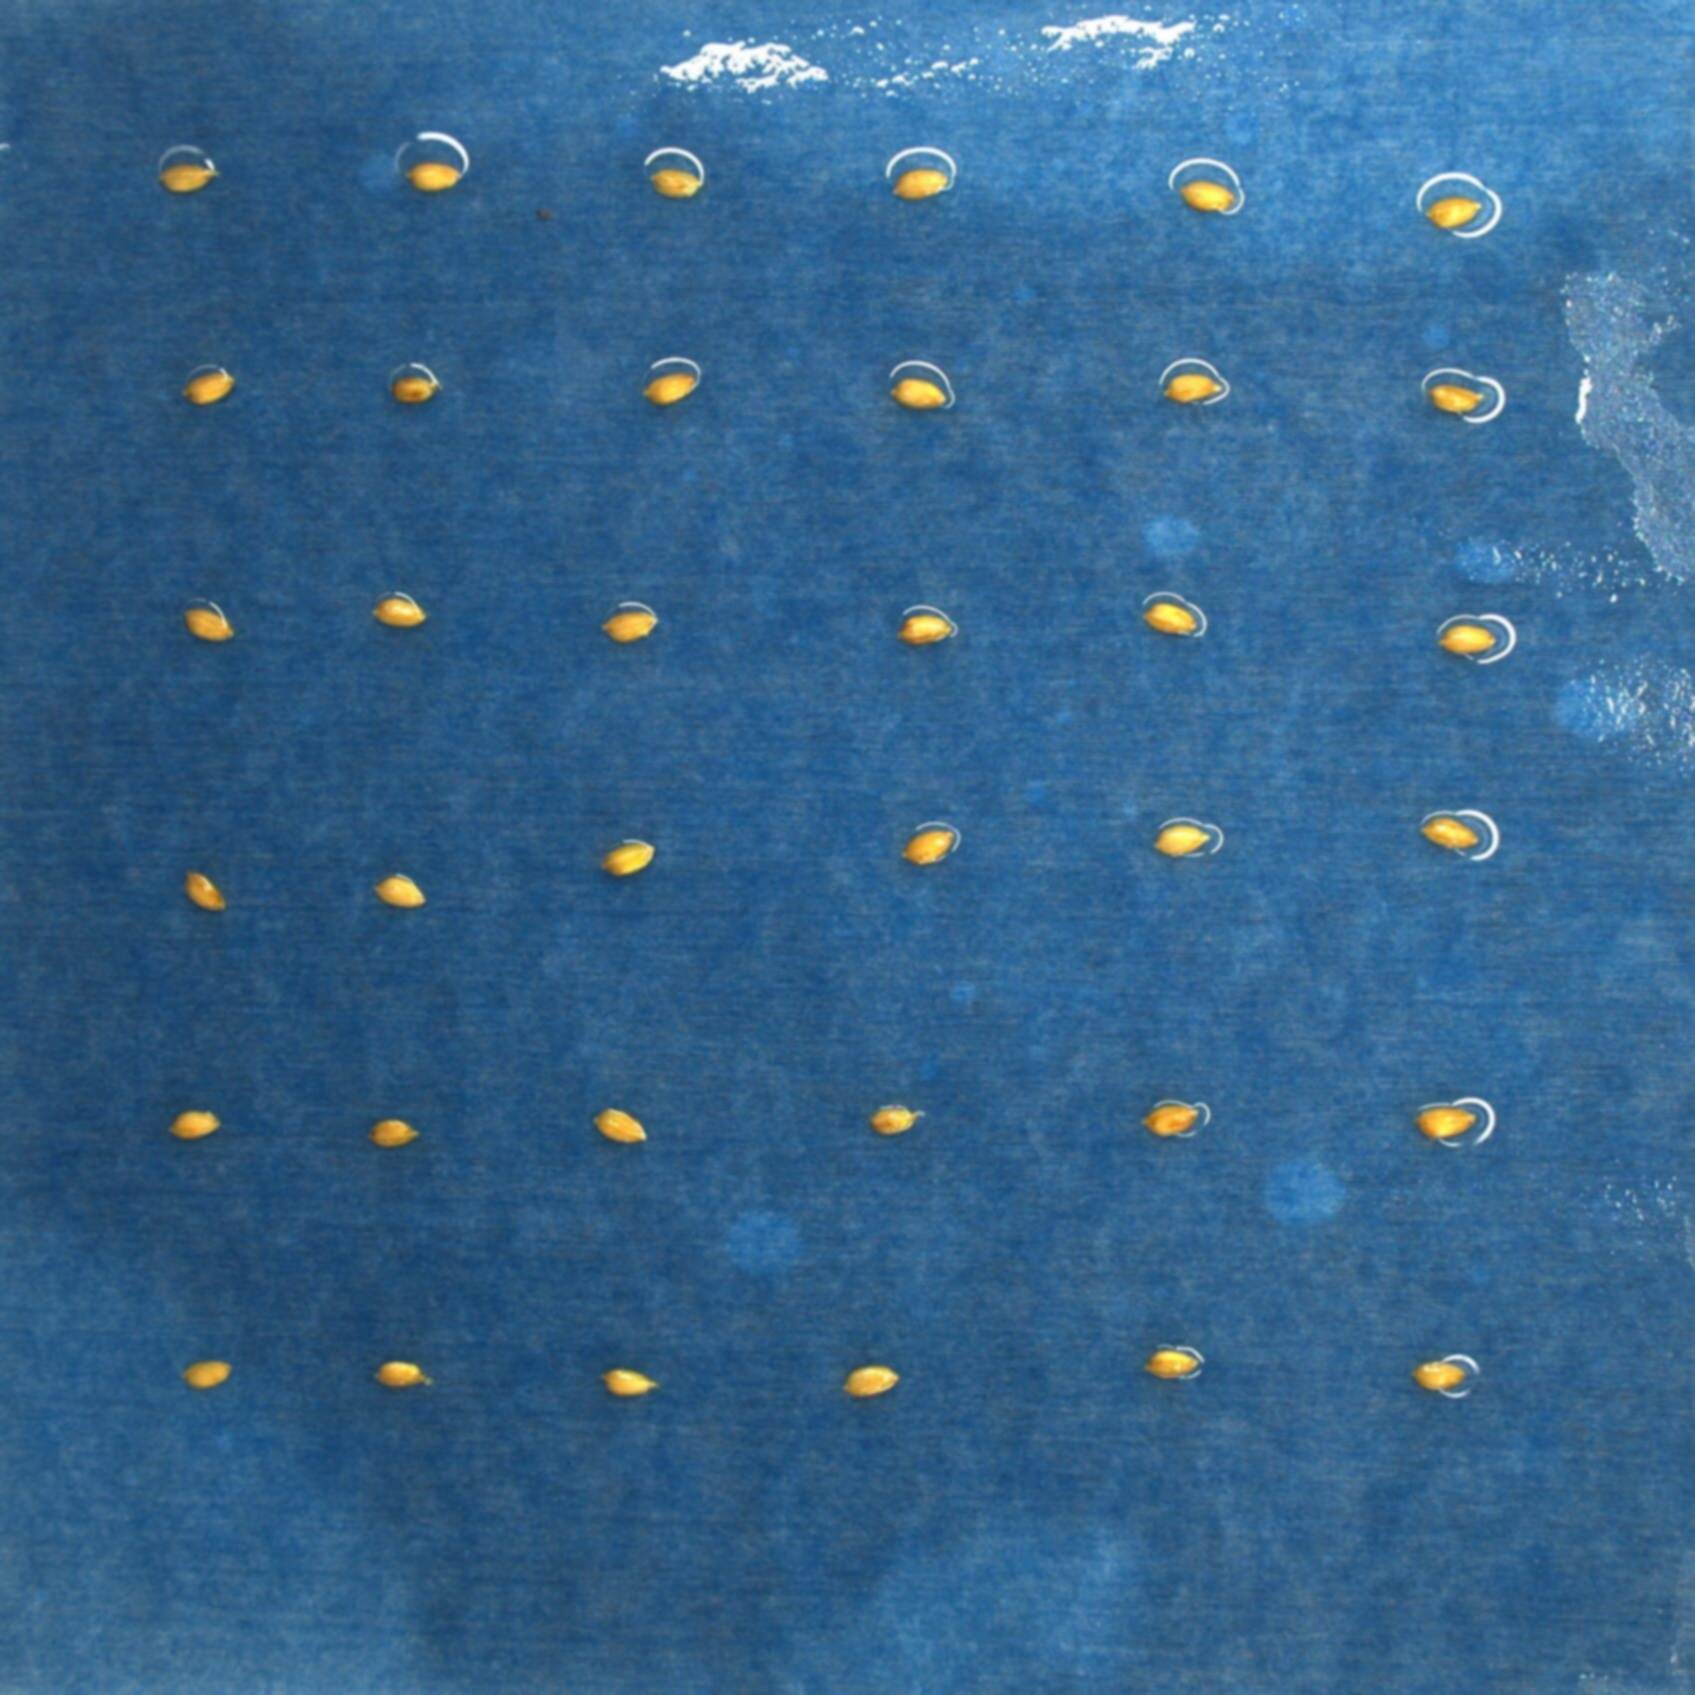not sprout: (366, 590, 428, 630), (888, 371, 955, 408), (1138, 1101, 1201, 1139), (1173, 179, 1239, 216), (388, 365, 442, 408), (179, 365, 234, 407), (865, 1102, 930, 1138), (180, 868, 230, 914), (1416, 816, 1479, 852), (1149, 824, 1214, 858), (369, 869, 428, 906), (1409, 1105, 1473, 1139), (599, 608, 660, 644), (588, 1107, 649, 1142), (179, 602, 231, 643), (1423, 379, 1485, 413), (1437, 621, 1496, 657), (899, 826, 955, 863), (900, 607, 958, 643), (894, 165, 948, 202), (1144, 601, 1198, 638), (647, 161, 703, 196), (602, 1361, 658, 1395), (641, 371, 698, 404), (1426, 199, 1482, 230), (1164, 369, 1220, 400), (1412, 1358, 1470, 1388), (1138, 1350, 1195, 1380), (166, 1108, 220, 1139), (154, 161, 213, 189), (366, 1363, 428, 1389), (844, 1363, 894, 1395), (400, 165, 464, 189), (604, 840, 653, 869), (182, 1360, 231, 1389), (369, 1118, 421, 1144)
